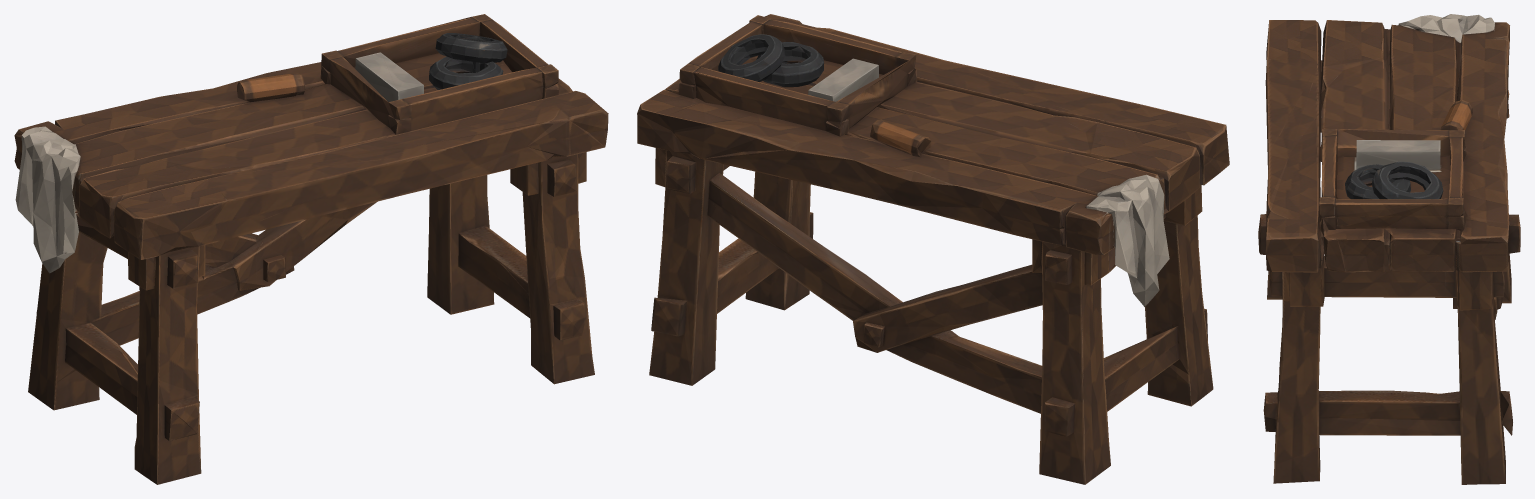
Rendered from S9_repair_workbench_a.glb.
3 views of the same model, side by side, from view 1: azimuth 30°, elevation 25°; view 2: azimuth 150°, elevation 25°; view 3: azimuth 270°, elevation 25° (orthographic). The views are drawn at different scales.
Visible parts, largest first — view 1: Mesh_0; view 2: Mesh_0; view 3: Mesh_0.
Part boxes in pixels (box(x1,y1,x2,y2)): Mesh_0: box(14, 14, 608, 484); Mesh_0: box(637, 14, 1229, 484); Mesh_0: box(1258, 14, 1520, 484).
Size of the model in its own units: 1.4 by 0.8509 by 0.6958.
Materials: 1 (1 with a texture image).
